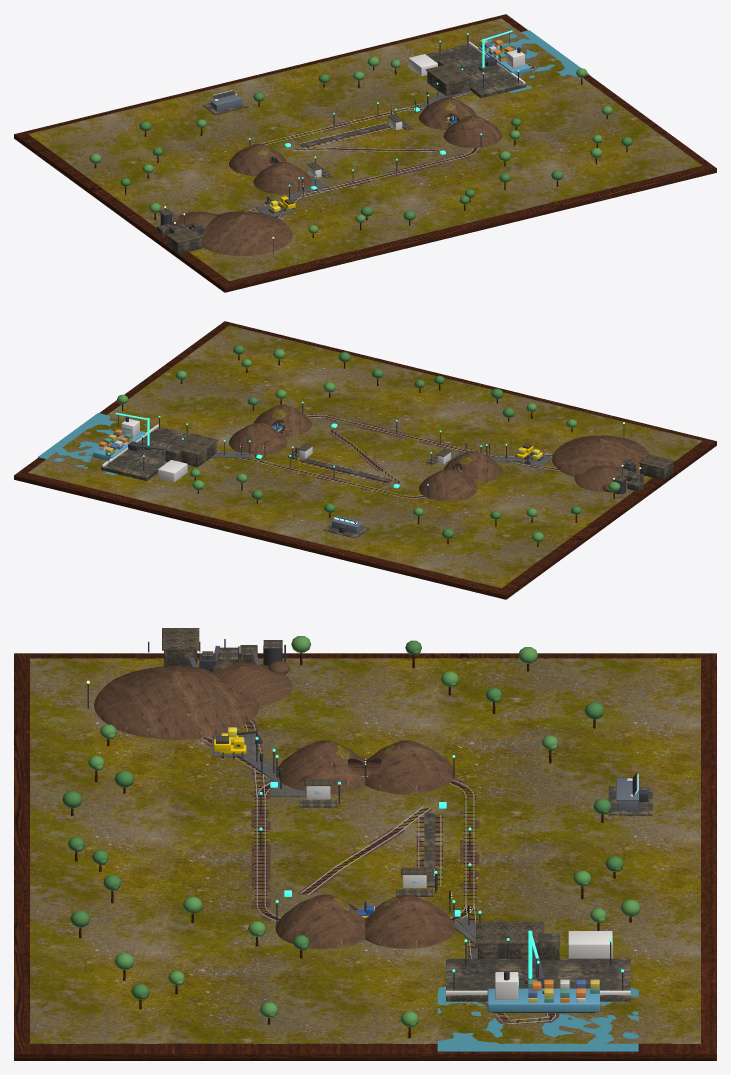
The model's file is maquete-blender.glb.
The picture shows the model from 3 angles, top to bottom: view 1: azimuth 30°, elevation 25°; view 2: azimuth 150°, elevation 25°; view 3: azimuth 270°, elevation 25°; orthographic projection. The views are drawn at different scales.
Visible parts, largest first — view 1: Grama, Placa, MinaCava, Copas, Cais, MorroLesteS, MorroOesteS, MorroOesteN, Agua, MorroLesteN, LoopLastro, ArmazemTeto (+3 smaller); view 2: Grama, Placa, MinaCava, Copas, Cais, MorroOesteN, MorroLesteN, Agua, MorroOesteS, MorroLesteS, CarvaoCava, LoopLastro (+3 smaller); view 3: Grama, Placa, MinaCava, Copas, Cais, Agua, MorroOesteN, MorroLesteN, MorroLesteS, MorroOesteS, LoopLastro, CarvaoCava (+10 smaller).
Part boxes in pixels (box(x1,y1,x2,y2)): Grama: box(28, 18, 702, 281); Placa: box(14, 14, 716, 292); MinaCava: box(201, 211, 292, 255); Copas: box(89, 56, 632, 233); Cais: box(426, 44, 526, 97); MorroLesteS: box(443, 115, 502, 147); MorroOesteS: box(253, 162, 311, 194); MorroOesteN: box(229, 144, 286, 176); Agua: box(487, 30, 589, 92); MorroLesteN: box(419, 97, 476, 129); LoopLastro: box(269, 114, 480, 192); ArmazemTeto: box(425, 64, 472, 85); Grama: box(28, 325, 702, 588); Placa: box(14, 321, 716, 599); MinaCava: box(552, 435, 648, 476); Copas: box(117, 345, 620, 542); Cais: box(101, 427, 189, 480); MorroOesteN: box(419, 469, 477, 501); MorroLesteN: box(229, 423, 287, 454); Agua: box(38, 413, 149, 475); MorroOesteS: box(443, 451, 501, 483); MorroLesteS: box(254, 404, 311, 436); CarvaoCava: box(574, 465, 628, 491); LoopLastro: box(280, 414, 472, 499); Grama: box(30, 658, 700, 1043); Placa: box(14, 653, 716, 1060); MinaCava: box(94, 665, 259, 739); Copas: box(62, 636, 640, 1026); Cais: box(446, 958, 630, 1001); Agua: box(437, 986, 638, 1051); MorroOesteN: box(359, 740, 455, 794); MorroLesteN: box(365, 894, 455, 948); MorroLesteS: box(275, 894, 365, 948); MorroOesteS: box(277, 740, 370, 794); LoopLastro: box(251, 775, 479, 921); CarvaoCava: box(213, 662, 292, 706).
Bounding box in the file's own units: 47.45 × 3.61 × 35.
40 materials, 11 textured.
